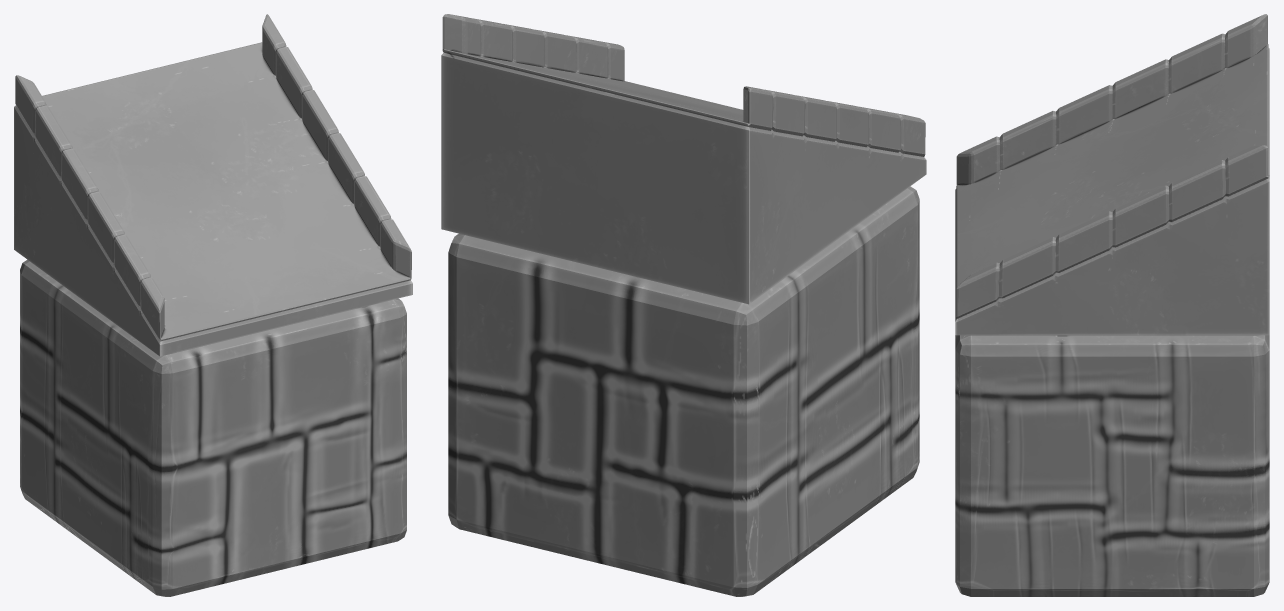
The model's file is Ramp Piece.fbx.
3 views of the same model, side by side, from view 1: azimuth 30°, elevation 25°; view 2: azimuth 150°, elevation 25°; view 3: azimuth 270°, elevation 25° (orthographic). The views are drawn at different scales.
Visible parts, largest first — view 1: Ramp_low; view 2: Ramp_low; view 3: Ramp_low.
Boxes of the visible parts, x1,y1,x2,y2 form: Ramp_low: (14, 14, 412, 596); Ramp_low: (441, 14, 926, 596); Ramp_low: (955, 14, 1269, 596).
Size of the model in its own units: 100 by 160 by 100.
Materials: 1 (1 with a texture image).
